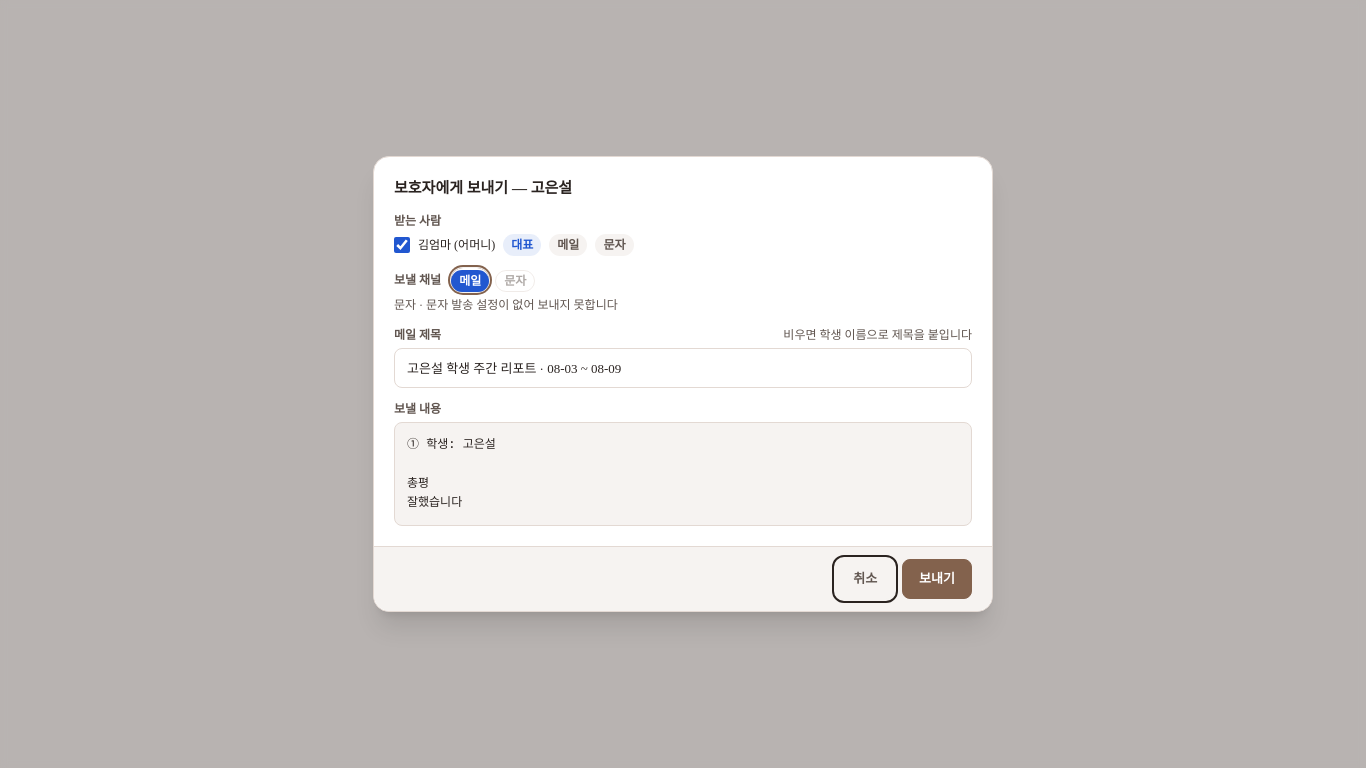
Test: 주간 묶음으로 열면 본문은 서버가 모은 글 그대로(읽기 전용)이고 요청에 wrepId 를 싣는다
Step 1. Click the button "보내기" → (937, 579), box [902,559,972,599]
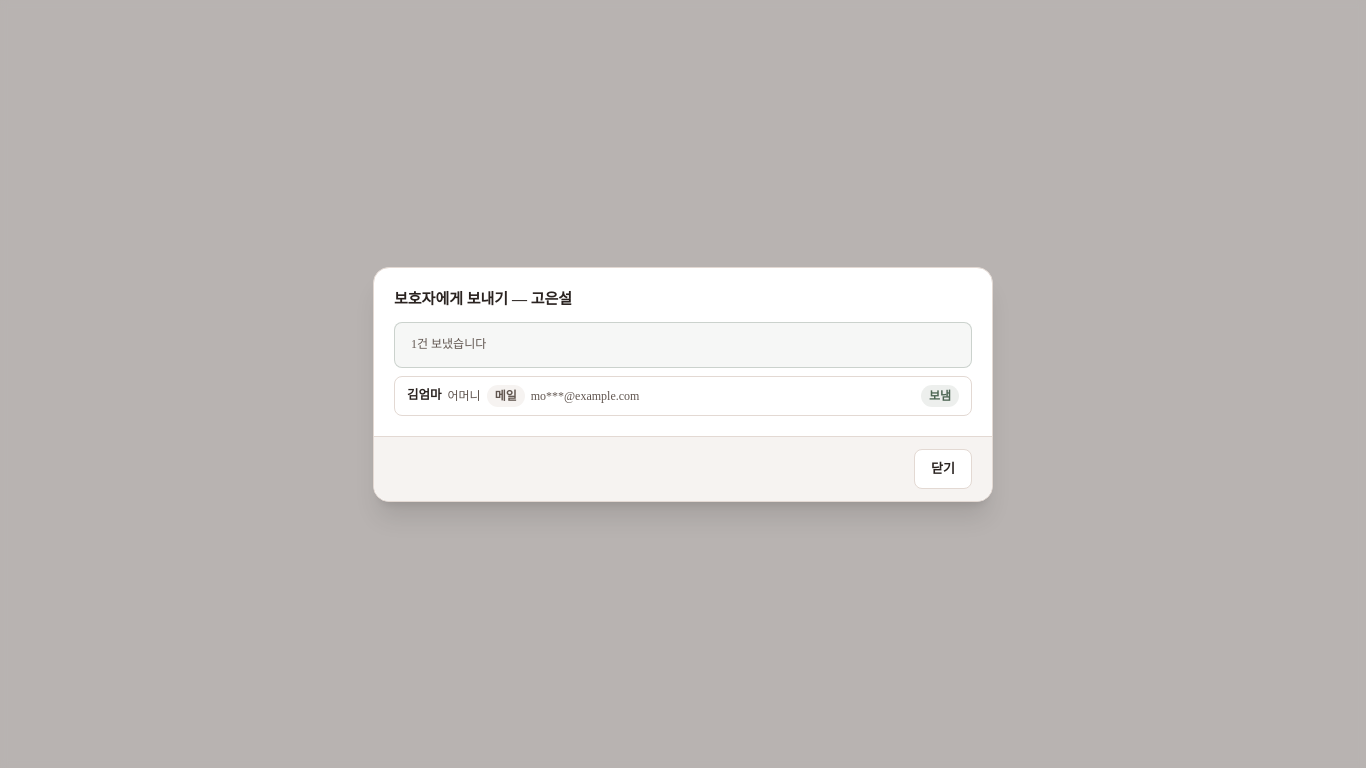
Check: the element named "보낸 결과" is shown, box [394,322,972,416]
